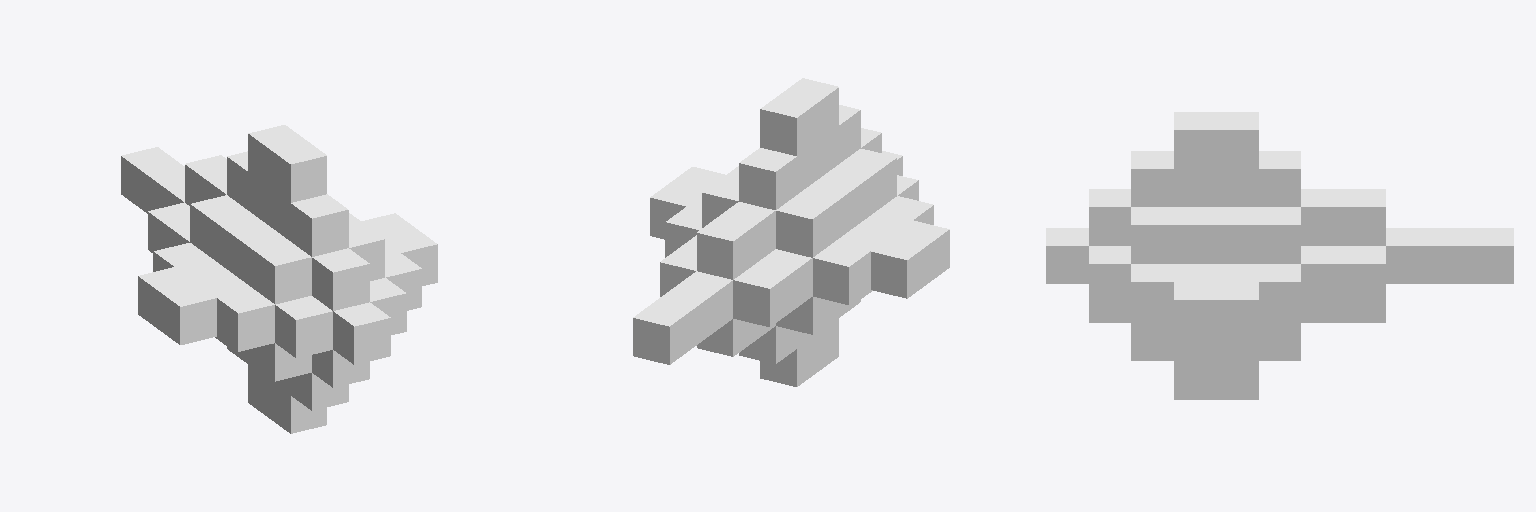
Rendered from muzzleFlash_02-0.obj.
3 views of the same model, side by side, from view 1: azimuth 30°, elevation 25°; view 2: azimuth 150°, elevation 25°; view 3: azimuth 270°, elevation 25° (orthographic).
Visible parts, largest first — view 1: object 1; view 2: object 1; view 3: object 1.
Boxes of the visible parts, box(x1,y1,x2,y2) form: object 1: box(121, 125, 437, 433); object 1: box(633, 78, 949, 386); object 1: box(1046, 112, 1513, 399).
Bounding box in the file's own units: 0.7 × 0.7 × 1.1.